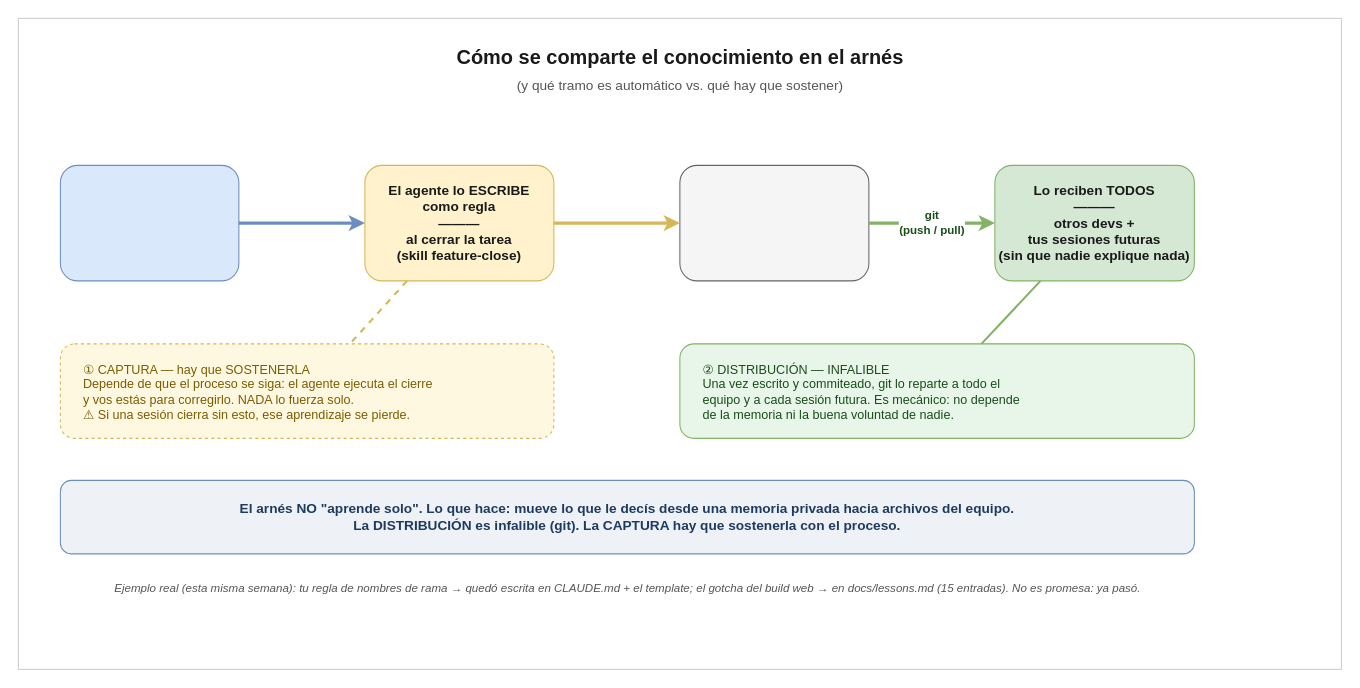
This 1360x688 diagram has some shape labels left out. The shapes that lost their labels are listed below. From the top down, each one's centre as x and y in pixels, then its label:
[149,222]: 👤 VOS corregís o rechazás algo (un diseño, un dato, una suposición)
[774,222]: Queda en el REPO ――― docs/lessons.md skill design-system CLAUDE.md
